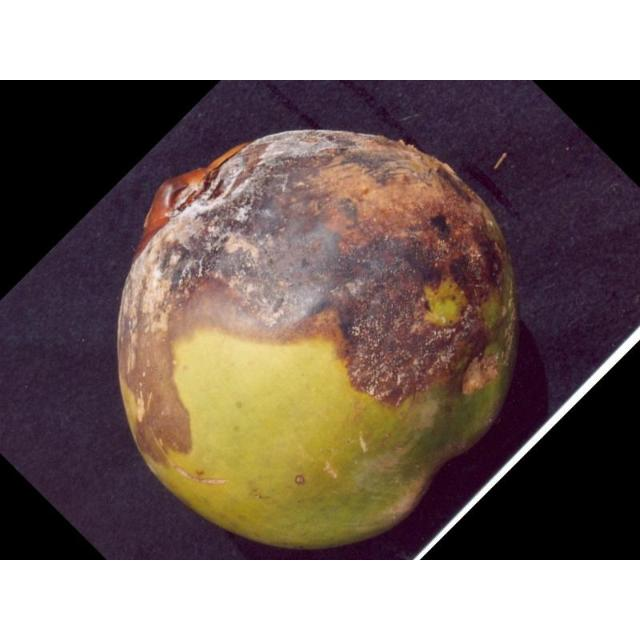damaged: (115, 130, 524, 553)
